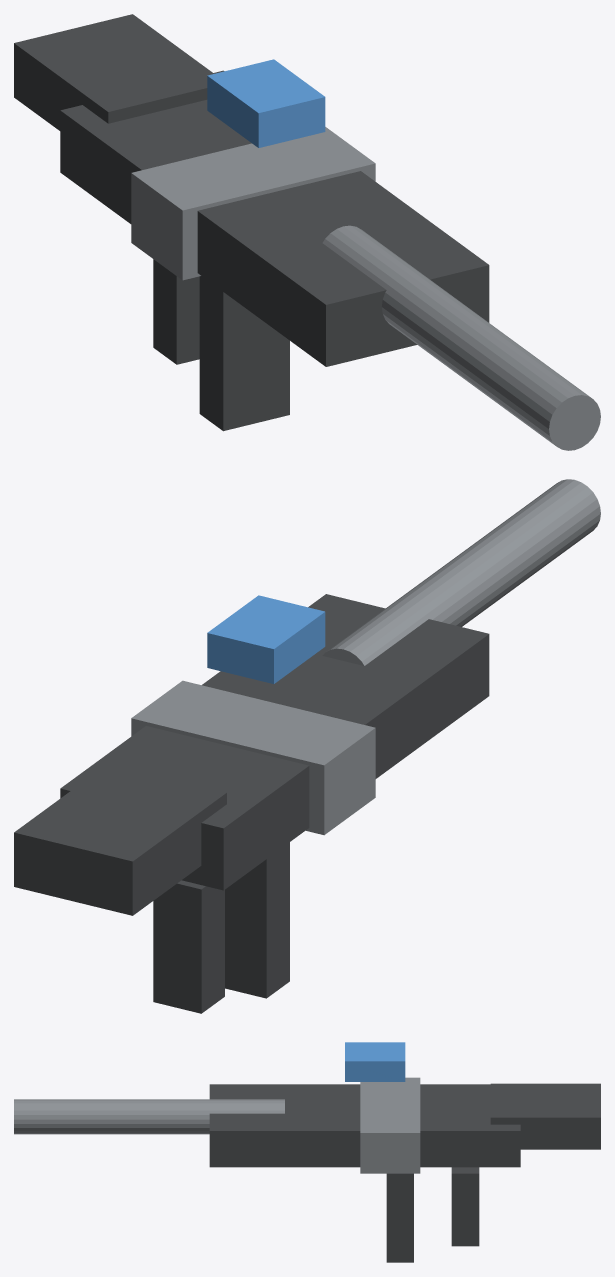
Rendered from wpn_ar_01.glb.
3 renders of one model, top to bottom at view 1: azimuth 30°, elevation 25°; view 2: azimuth 150°, elevation 25°; view 3: azimuth 270°, elevation 25°, orthographic. The views are drawn at different scales.
Parts seen in each view (by area): view 1: wpn_ar_01_lod1_body, wpn_ar_01_lod0_barrel, wpn_ar_01_lod0_stock, wpn_ar_01_lod0_receiver, wpn_ar_01_lod0_magazine, wpn_ar_01_lod0_sight, wpn_ar_01_lod0_handguard, wpn_ar_01_lod0_grip; view 2: wpn_ar_01_lod1_body, wpn_ar_01_lod0_stock, wpn_ar_01_lod0_receiver, wpn_ar_01_lod0_barrel, wpn_ar_01_lod0_grip, wpn_ar_01_lod0_magazine, wpn_ar_01_lod0_sight; view 3: wpn_ar_01_lod1_body, wpn_ar_01_lod0_barrel, wpn_ar_01_lod0_stock, wpn_ar_01_lod0_receiver, wpn_ar_01_lod0_magazine, wpn_ar_01_lod0_sight, wpn_ar_01_lod0_grip.
Boxes of the visible parts, box(x1,y1,x2,y2) form: wpn_ar_01_lod1_body: box(60, 70, 489, 366); wpn_ar_01_lod0_barrel: box(322, 225, 600, 450); wpn_ar_01_lod0_stock: box(14, 14, 213, 130); wpn_ar_01_lod0_receiver: box(131, 127, 375, 280); wpn_ar_01_lod0_magazine: box(199, 276, 289, 431); wpn_ar_01_lod0_sight: box(207, 59, 325, 147); wpn_ar_01_lod0_handguard: box(333, 271, 481, 361); wpn_ar_01_lod0_grip: box(153, 259, 199, 364); wpn_ar_01_lod1_body: box(60, 594, 489, 890); wpn_ar_01_lod0_stock: box(14, 763, 226, 915); wpn_ar_01_lod0_receiver: box(131, 680, 375, 835); wpn_ar_01_lod0_barrel: box(322, 479, 600, 665); wpn_ar_01_lod0_grip: box(153, 880, 224, 1013); wpn_ar_01_lod0_magazine: box(225, 842, 289, 998); wpn_ar_01_lod0_sight: box(207, 595, 325, 683); wpn_ar_01_lod1_body: box(209, 1084, 520, 1167); wpn_ar_01_lod0_barrel: box(14, 1099, 284, 1134); wpn_ar_01_lod0_stock: box(490, 1083, 600, 1149); wpn_ar_01_lod0_receiver: box(360, 1077, 420, 1173); wpn_ar_01_lod0_magazine: box(386, 1173, 413, 1262); wpn_ar_01_lod0_sight: box(345, 1042, 405, 1081); wpn_ar_01_lod0_grip: box(451, 1167, 479, 1246).
Size of the model in its own units: 0.26 by 0.4425 by 1.17.
